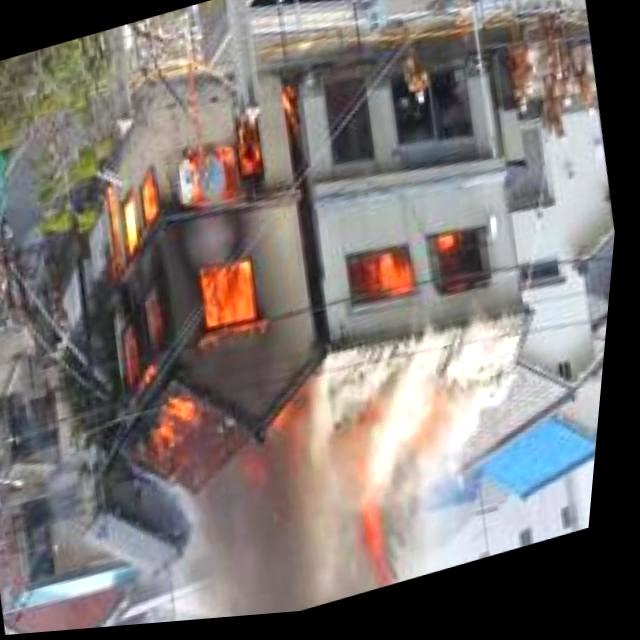fire: (62, 52, 350, 490), (324, 394, 424, 600), (344, 225, 492, 309)
